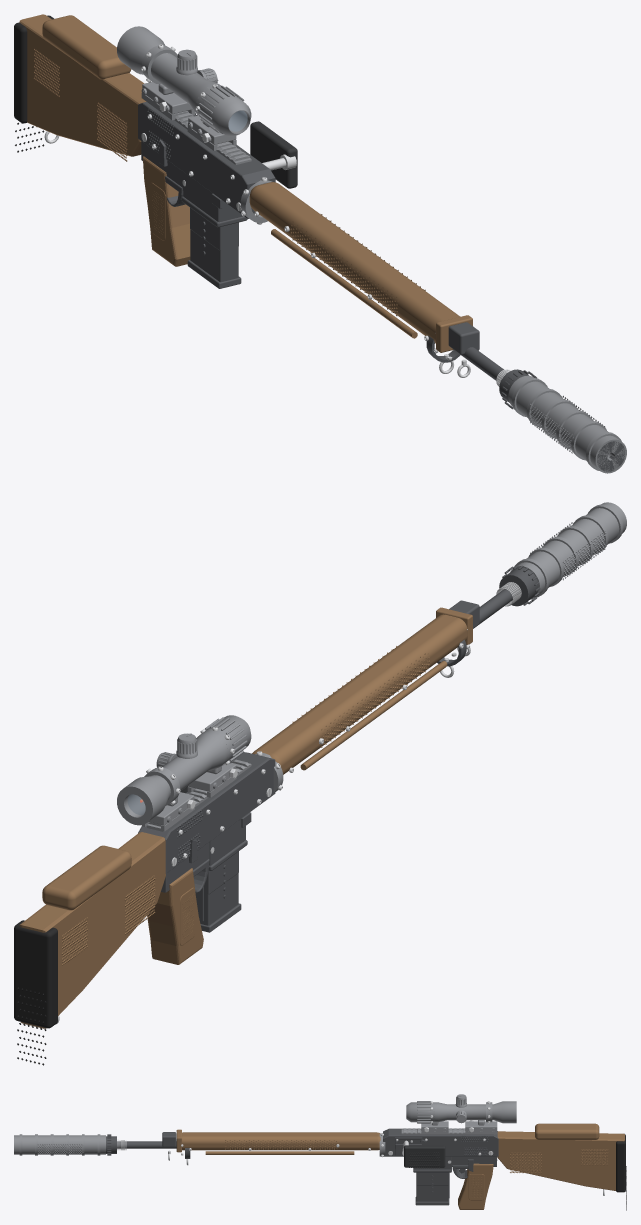
Rendered from k31zfk.glb.
3 views of the same model, one above another, from view 1: azimuth 30°, elevation 25°; view 2: azimuth 150°, elevation 25°; view 3: azimuth 270°, elevation 25° (orthographic). The views are drawn at different scales.
Visible parts, largest first — view 1: straight-pull-rifle-scoped, magazine/gunmetal, bolt/polymerBlack; view 2: straight-pull-rifle-scoped, magazine/gunmetal; view 3: straight-pull-rifle-scoped, magazine/gunmetal, bolt/polymerBlack.
Boxes of the visible parts, x1,y1,x2,y2 form: straight-pull-rifle-scoped: (14,14,626,473); magazine/gunmetal: (187,207,241,288); bolt/polymerBlack: (250,121,297,188); straight-pull-rifle-scoped: (14,502,626,1065); magazine/gunmetal: (195,851,241,932); straight-pull-rifle-scoped: (14,1094,626,1210); magazine/gunmetal: (415,1172,449,1205); bolt/polymerBlack: (404,1145,445,1167).
Bounding box in the file's own units: 0.1053 × 0.2682 × 1.33.
